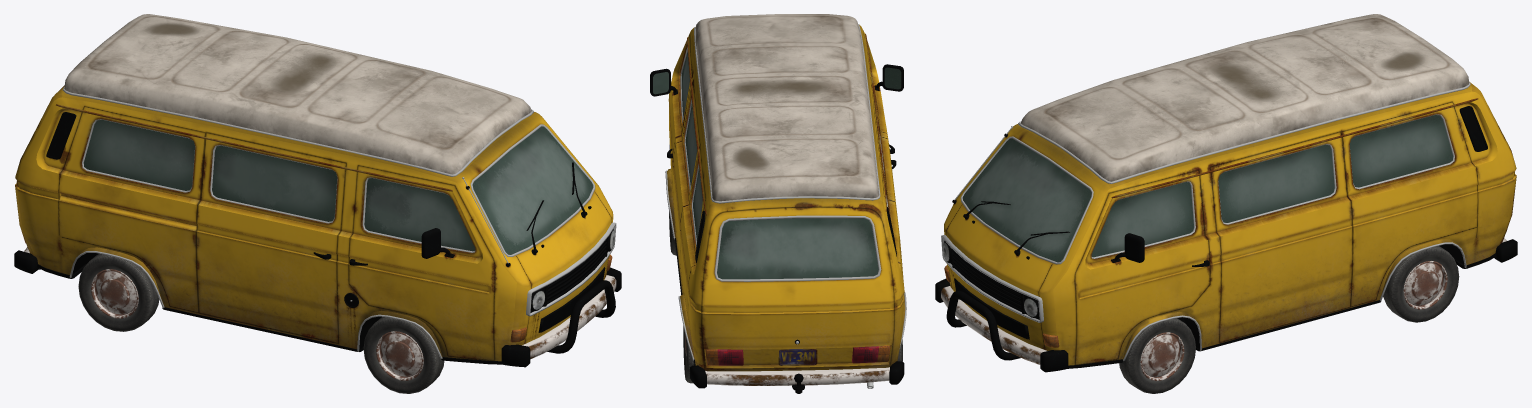
Rendered from volkswagen_t3.glb.
3 renders of one model, left to right at view 1: azimuth 30°, elevation 25°; view 2: azimuth 150°, elevation 25°; view 3: azimuth 270°, elevation 25°, orthographic. The views are drawn at different scales.
Visible parts, largest first — view 1: Plane; view 2: Plane; view 3: Plane.
Part boxes in pixels (box(x1,y1,x2,y2)): Plane: box(14, 14, 621, 393); Plane: box(650, 14, 906, 393); Plane: box(935, 14, 1517, 393).
Bounding box in the file's own units: 2.46 × 1.36 × 3.
Materials: 2 (2 with a texture image).
